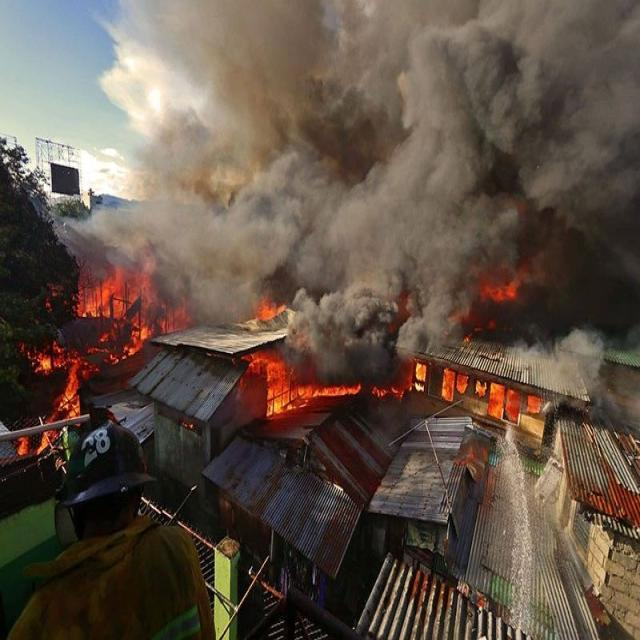Fire: (407, 350, 561, 428), (52, 300, 186, 362), (256, 326, 315, 430), (477, 274, 558, 336)
Smoke: (294, 0, 639, 223), (131, 210, 472, 359), (200, 3, 297, 215), (552, 228, 631, 348)
